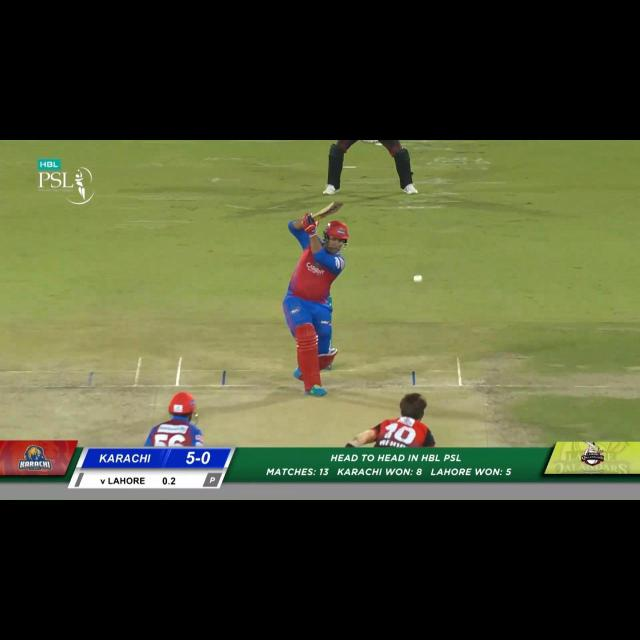bat: (314, 202, 344, 222)
toe: (330, 201, 344, 206)
